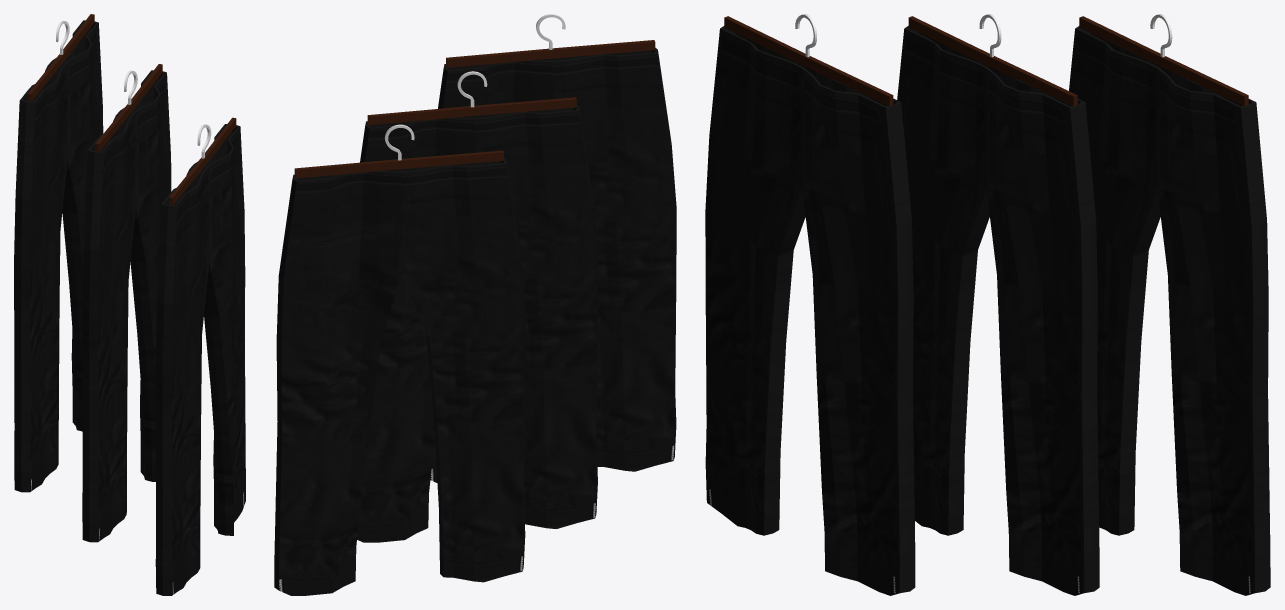
File: chinoblack2.glb
3 views of the same model, side by side, from view 1: azimuth 30°, elevation 25°; view 2: azimuth 150°, elevation 25°; view 3: azimuth 270°, elevation 25° (orthographic). The views are drawn at different scales.
Parts seen in each view (by area): view 1: Plane.339; view 2: Plane.339; view 3: Plane.339.
Boxes of the visible parts, bbox=[...] form: Plane.339: bbox=[14, 14, 245, 595]; Plane.339: bbox=[274, 14, 676, 595]; Plane.339: bbox=[705, 14, 1270, 595].
Size of the model in its own units: 0.185 by 0.4706 by 0.4466.
3 materials, 3 textured.
